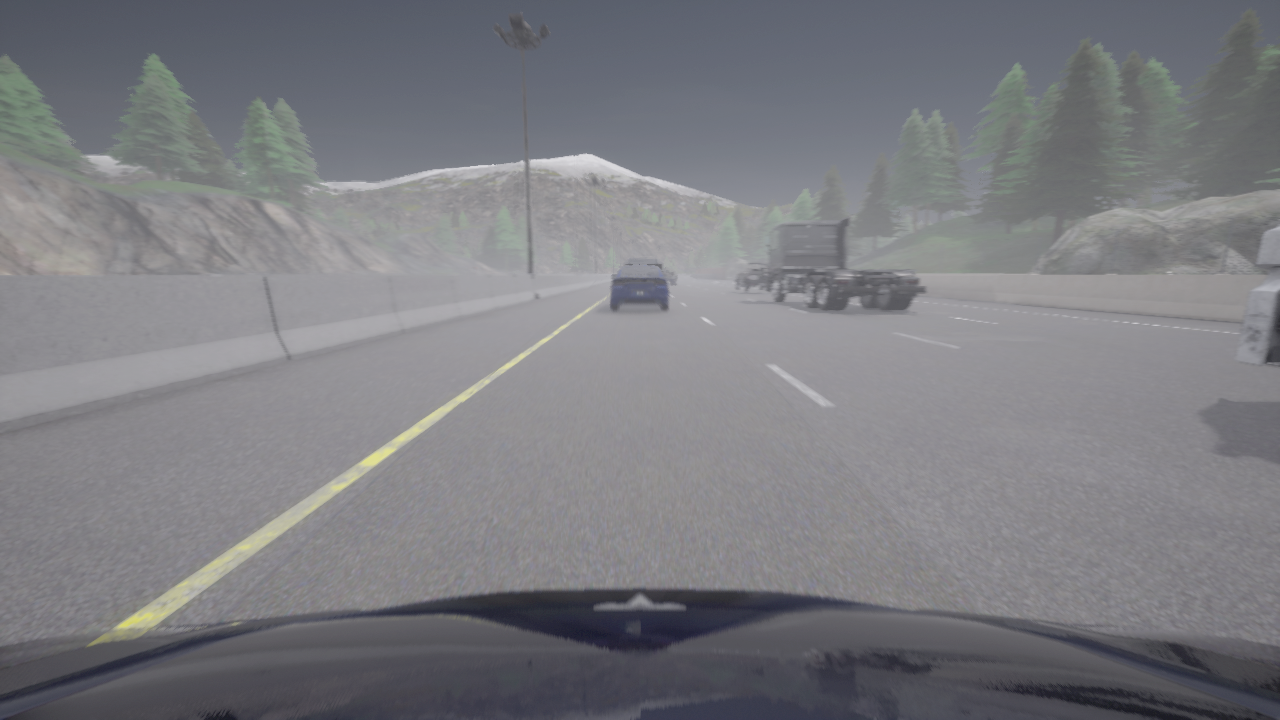cyclist: (0, 588, 1279, 719), (763, 217, 925, 310), (1235, 220, 1279, 366), (611, 265, 668, 309), (625, 257, 662, 269), (753, 271, 766, 288), (668, 273, 675, 283)
